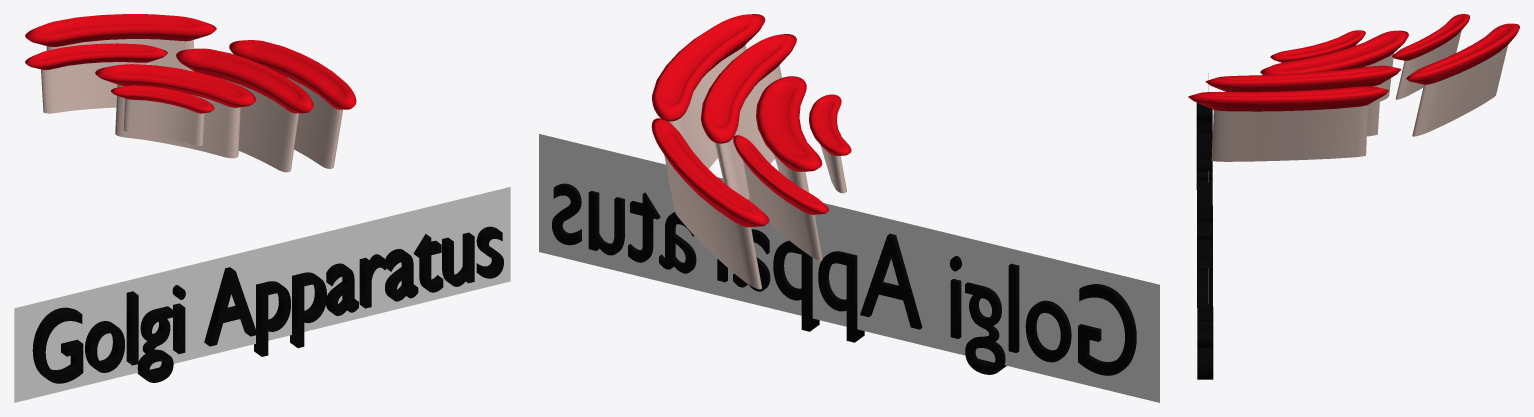
Rendered from golgi.gltf.
3 renders of one model, left to right at view 1: azimuth 30°, elevation 25°; view 2: azimuth 150°, elevation 25°; view 3: azimuth 270°, elevation 25°, orthographic. The views are drawn at different scales.
Parts seen in each view (by area): view 1: Plane.006, Text.006, Red_Top, Base_Red; view 2: Plane.006, Red_Top, Text.006, Base_Red; view 3: Red_Top, Base_Red, Text.006.
Boxes of the visible parts, bbox=[...] form: Plane.006: bbox=[14, 187, 510, 402]; Text.006: bbox=[32, 226, 503, 383]; Red_Top: bbox=[25, 14, 356, 113]; Base_Red: bbox=[41, 39, 342, 172]; Plane.006: bbox=[539, 134, 1159, 402]; Red_Top: bbox=[651, 14, 851, 227]; Text.006: bbox=[552, 183, 1136, 375]; Base_Red: bbox=[664, 45, 846, 289]; Red_Top: bbox=[1188, 14, 1519, 111]; Base_Red: bbox=[1211, 30, 1507, 161]; Text.006: bbox=[1196, 102, 1213, 379].
Size of the model in its own units: 1.33 by 0.6178 by 0.7686.
